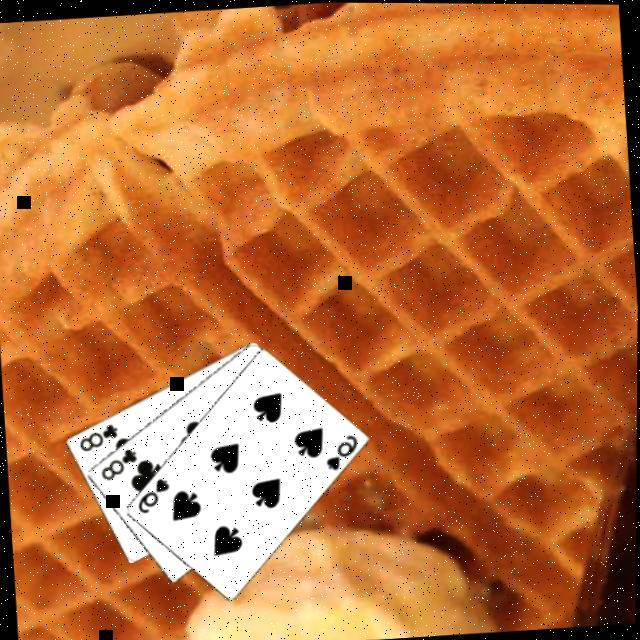6S: (131, 475, 172, 518), (319, 431, 360, 474)
8C: (94, 446, 139, 485), (73, 419, 119, 454)
